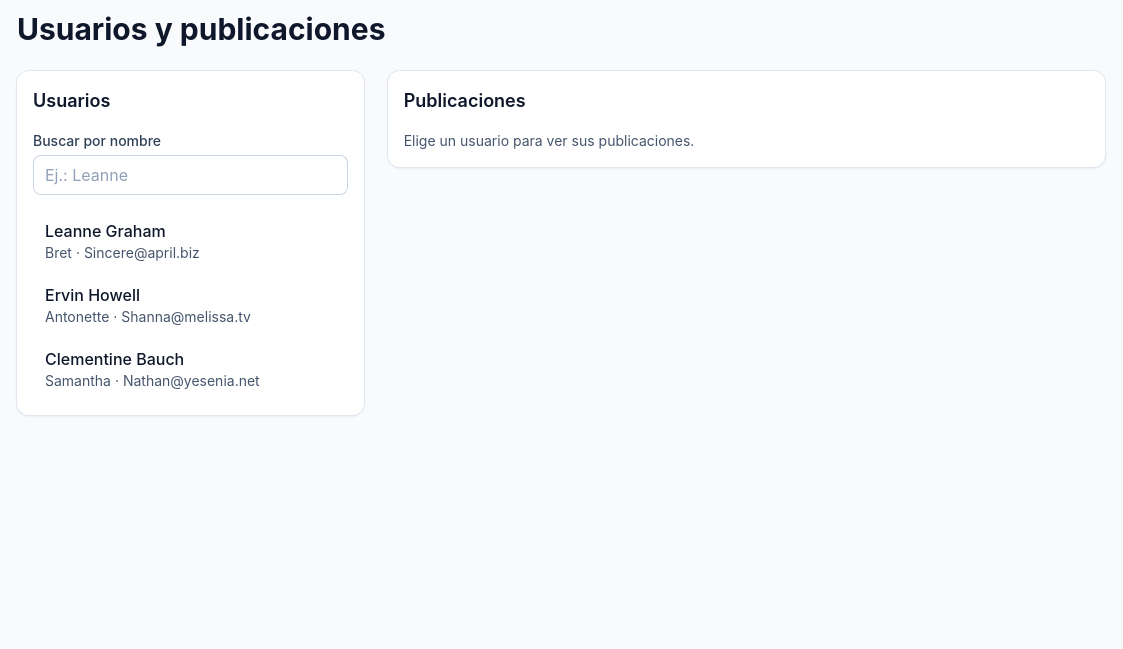
user posts › shows the posts of the selected user
The width and height of the screenshot is (1123, 649).
Click the button "Leanne Graham Bret · Sincere@april.biz": (190, 241) [33,211,348,271]
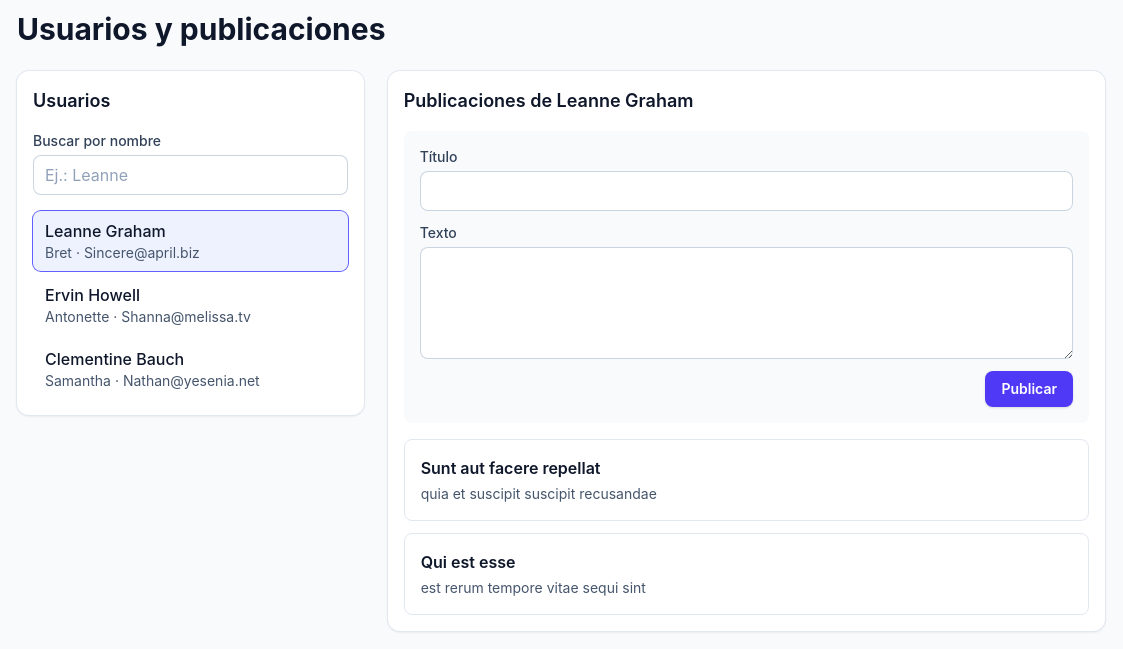
Expected: the heading "Publicaciones de Leanne Graham" is shown, [404,90,694,111]
Expected: the heading "sunt aut facere repellat" is shown, [421,458,600,478]
Expected: the heading "qui est esse" is shown, [421,552,516,572]
